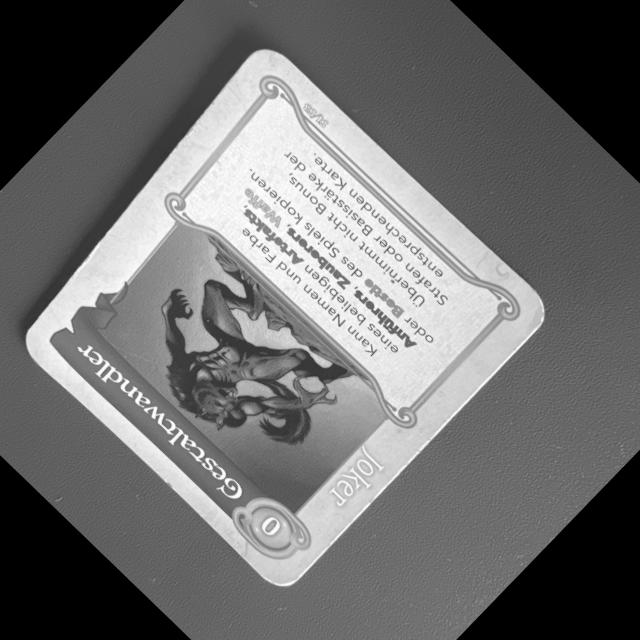Shapeshifter: (5, 34, 566, 607)
